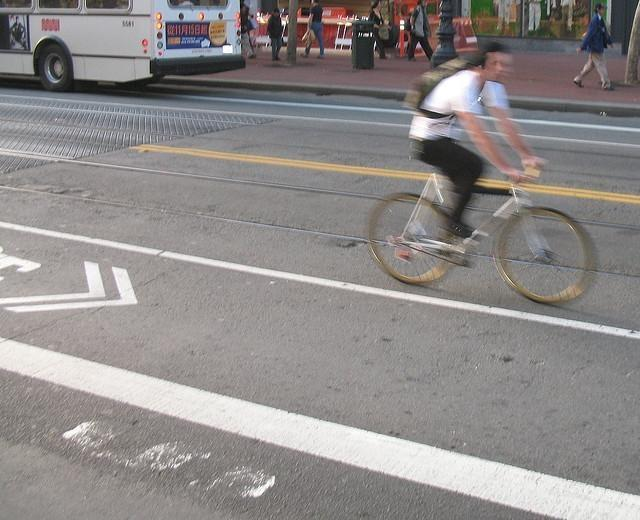bicycle: (362, 152, 600, 308)
bus: (1, 0, 246, 91)
